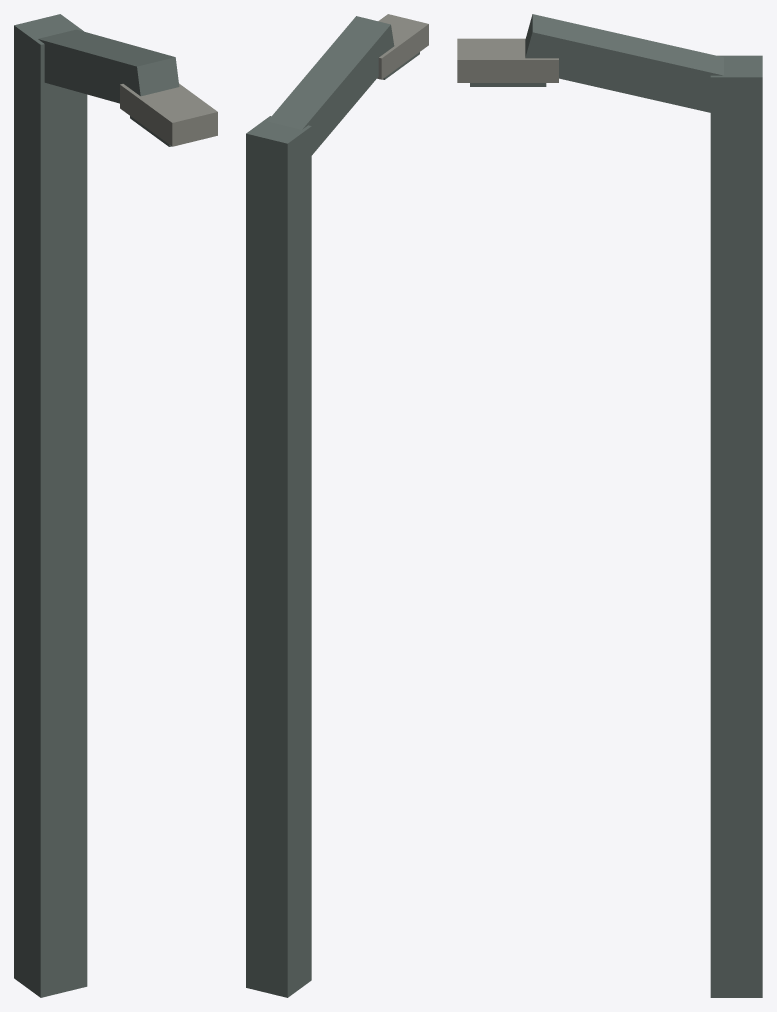
File: SM_Farola_v1_LOD1.fbx
The picture shows the model from 3 angles, left to right: view 1: azimuth 30°, elevation 25°; view 2: azimuth 150°, elevation 25°; view 3: azimuth 270°, elevation 25°; orthographic projection. The views are drawn at different scales.
Visible parts, largest first — view 1: SM_urbano_v6_LOD1; view 2: SM_urbano_v6_LOD1; view 3: SM_urbano_v6_LOD1.
Part boxes in pixels (box(x1,y1,x2,y2)): SM_urbano_v6_LOD1: box(14, 14, 217, 997); SM_urbano_v6_LOD1: box(246, 14, 428, 997); SM_urbano_v6_LOD1: box(457, 14, 762, 997).
Bounding box in the file's own units: 0.408 × 8.38 × 2.4.
